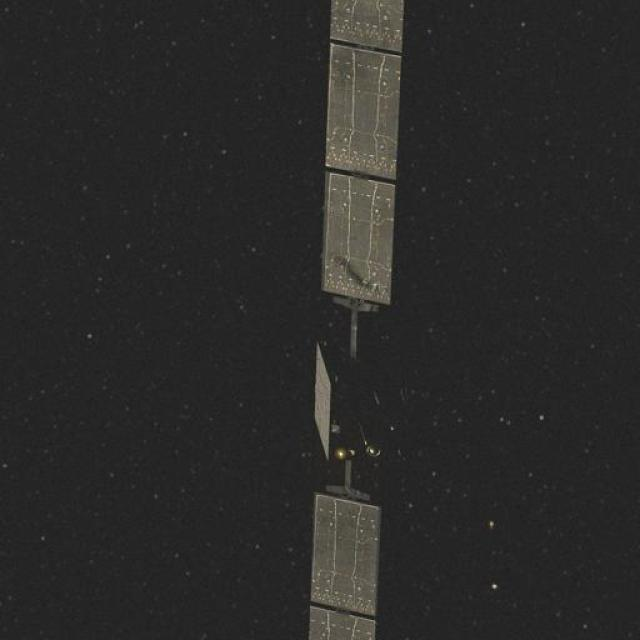smart_1: (278, 185, 420, 584)
